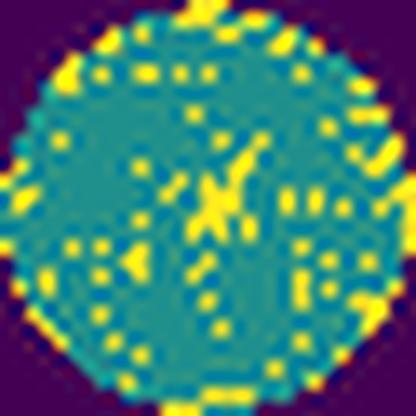Center: (180, 128, 283, 248)
